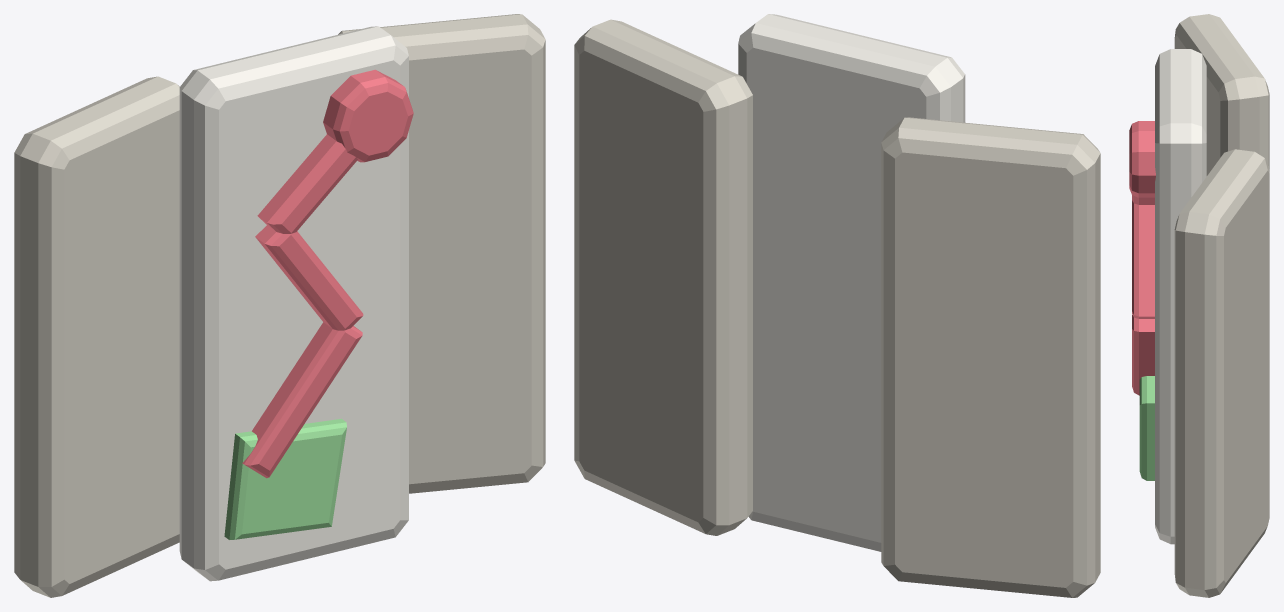
Rendered from game-ui-icon-library-map-fold-c13952de__19008.glb.
3 views of the same model, side by side, from view 1: azimuth 30°, elevation 25°; view 2: azimuth 150°, elevation 25°; view 3: azimuth 270°, elevation 25° (orthographic). The views are drawn at different scales.
Visible parts, largest first — view 1: map-fold; view 2: map-fold; view 3: map-fold.
Boxes of the visible parts, x1,y1,x2,y2 form: map-fold: (14, 14, 545, 597); map-fold: (574, 14, 1100, 597); map-fold: (1129, 14, 1269, 597).
Size of the model in its own units: 0.98 by 0.9039 by 0.2733.
